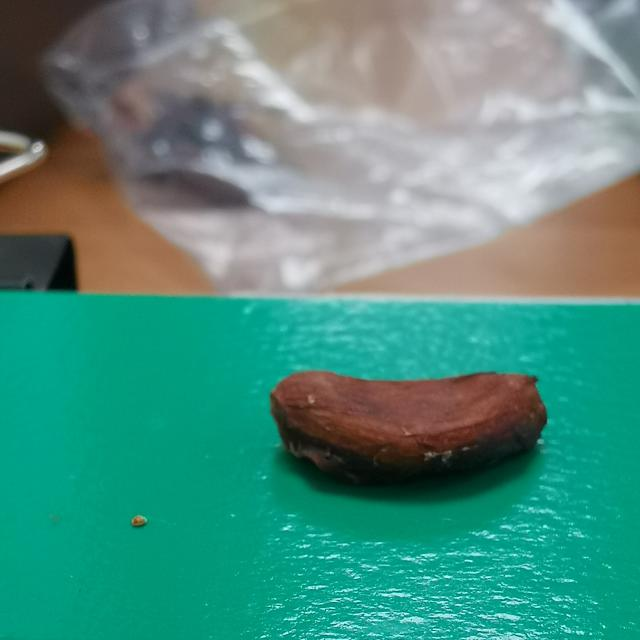Flat_cocoabeans: (218, 307, 620, 545)
